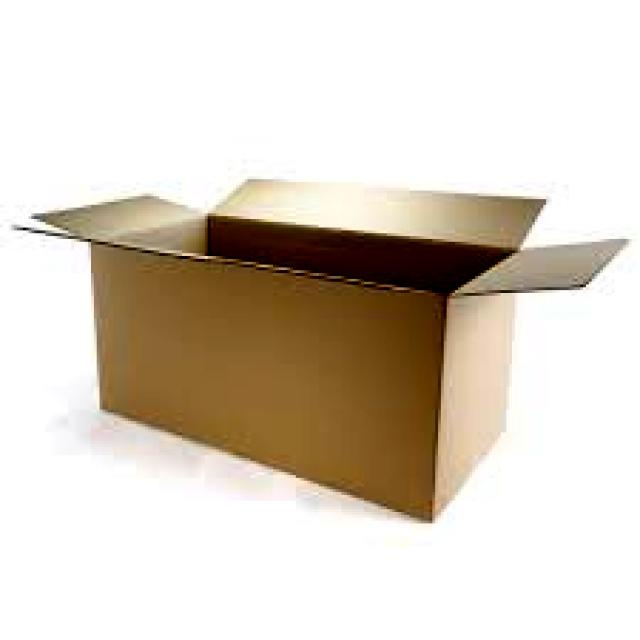Cardboard: (19, 172, 636, 523)
